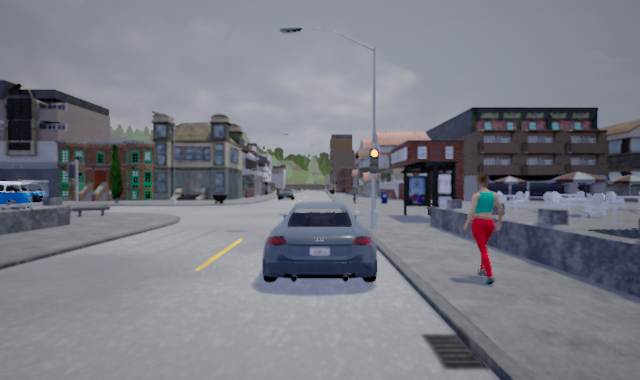pedestrian: (459, 173, 507, 286), (350, 189, 358, 204)
vehicle: (261, 201, 379, 284), (1, 181, 52, 212), (277, 188, 295, 201)
